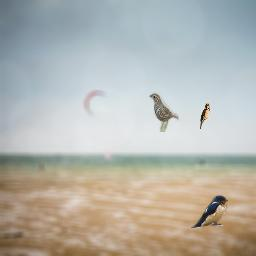Sparrow: (149, 92, 179, 132)
Swallow: (191, 195, 228, 228), (200, 103, 210, 129)
